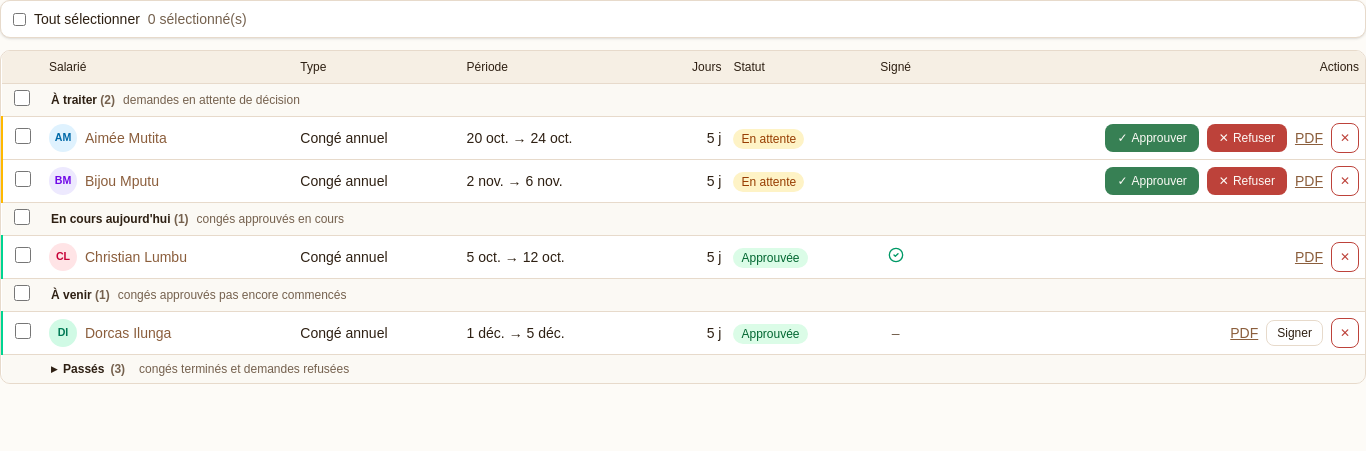
actions groupées › Approuver / Refuser ne portent QUE sur les demandes en attente cochées (une approuvée cochée n'est pas envoyée)
The image size is (1366, 451).
Click the checkbox named "Sélectionner la demande de Aimée Mutita (Congé annuel)". click: coordinates (23, 136)
box: [15, 128, 31, 144]
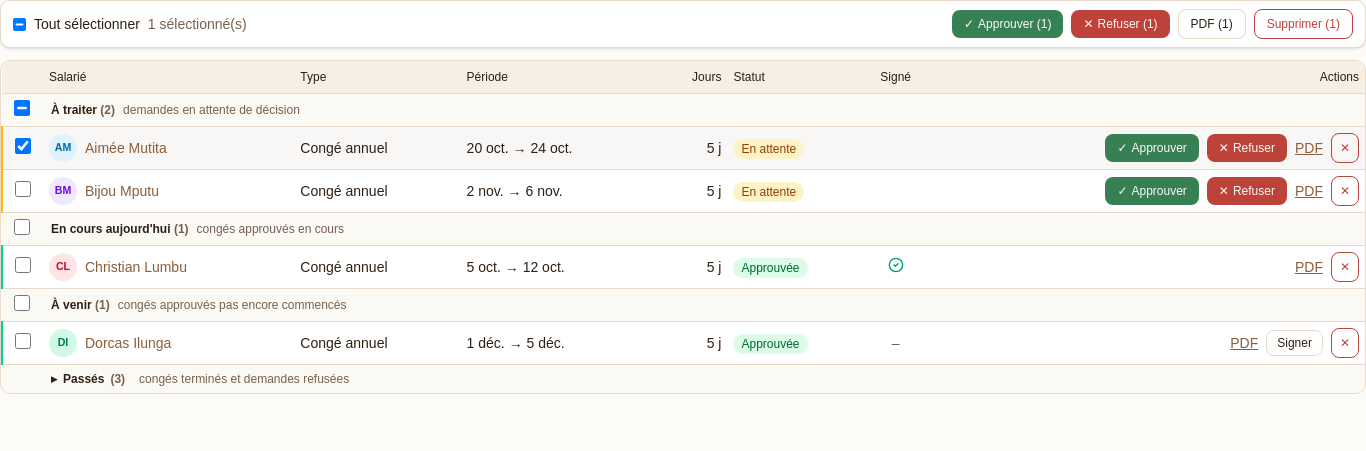
Click the checkbox named "Sélectionner la demande de Bijou Mputu (Congé annuel)". click: coordinates (23, 188)
box: [15, 180, 31, 196]
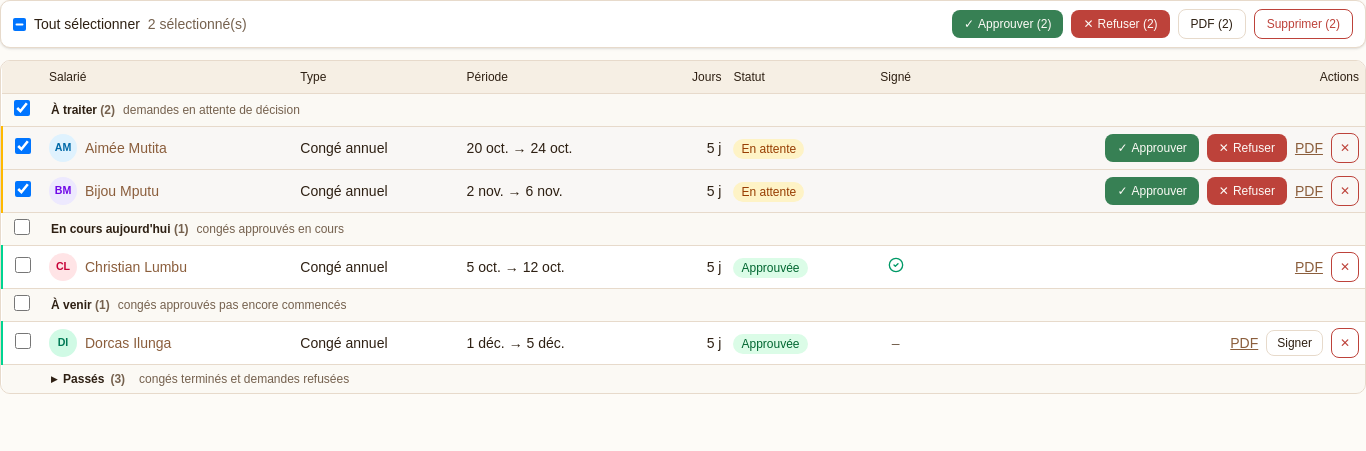
Click the checkbox named "Sélectionner la demande de Christian Lumbu (Congé annuel)". click: coordinates (23, 264)
box: [15, 256, 31, 272]
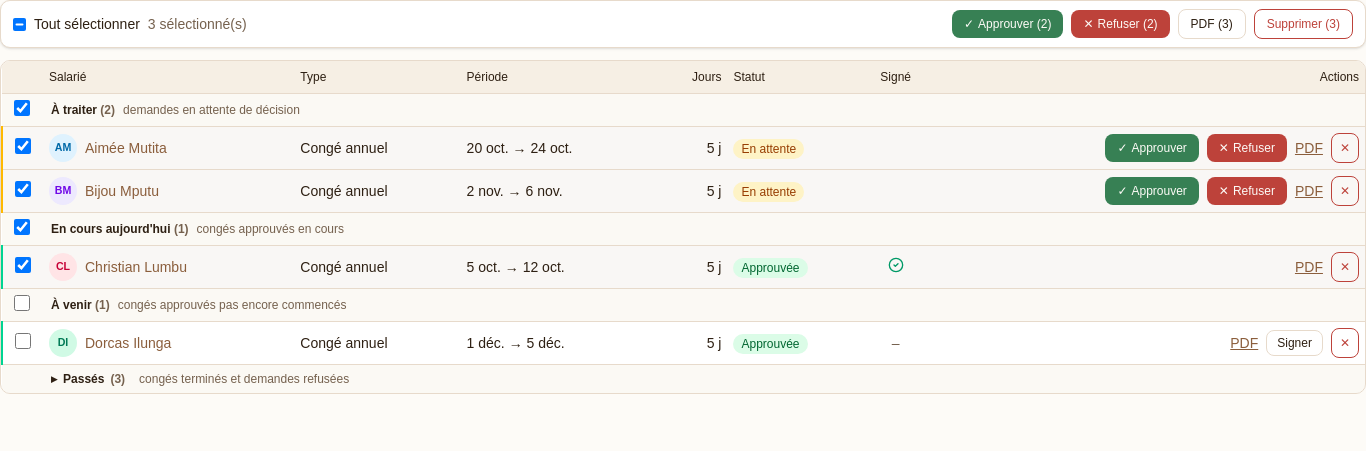
Check: the button "✓ Approuver (2)" is shown
Click the button "✓ Approuver (2)". click: coordinates (1008, 24)
box: [952, 10, 1064, 38]
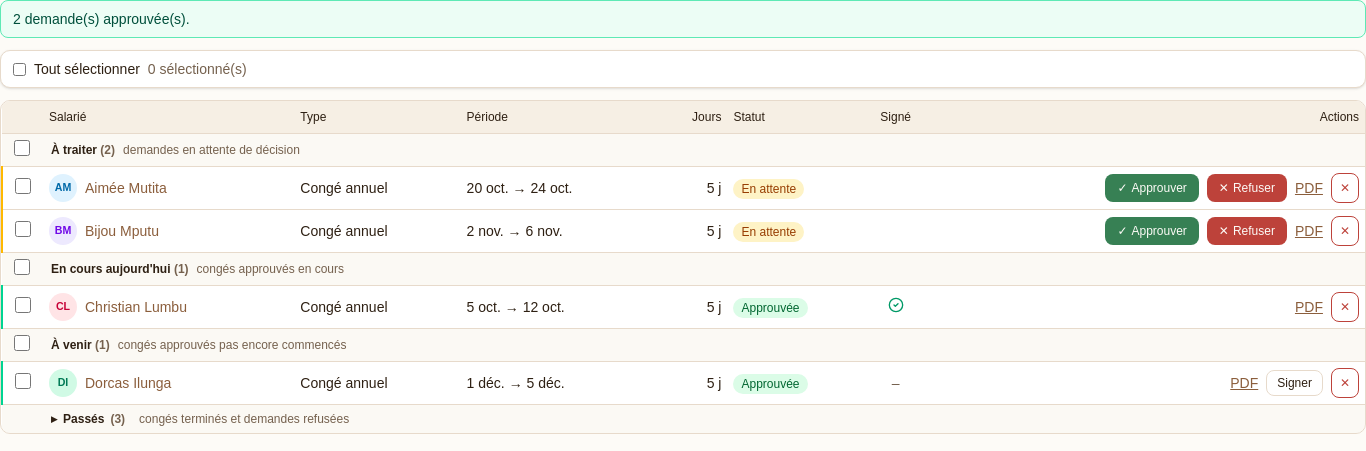
Check: the message "2 demande(s) approuvée(s)." is shown, box [0, 0, 1365, 38]
Check: the text "0 sélectionné(s)" is shown, box [148, 59, 247, 79]
